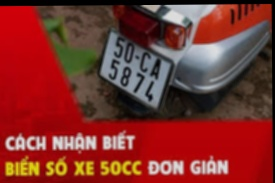Bien-so: (97, 28, 177, 114)
